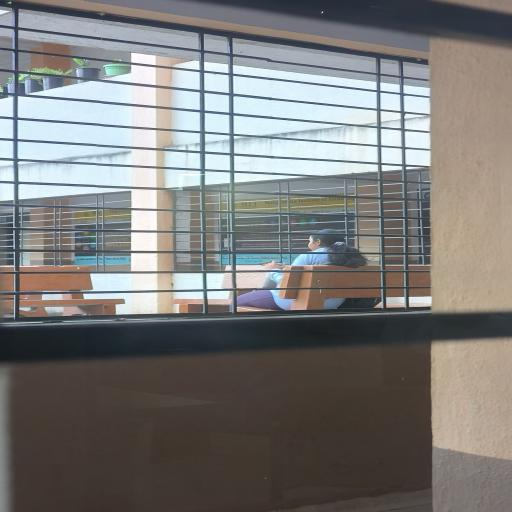survivor: (234, 229, 371, 310)
